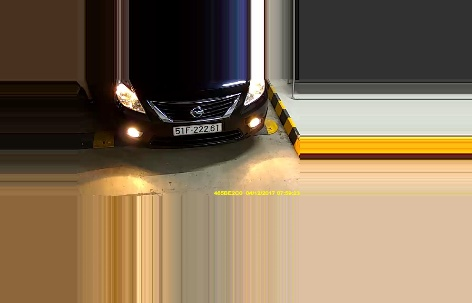plate: (171, 119, 222, 134)
